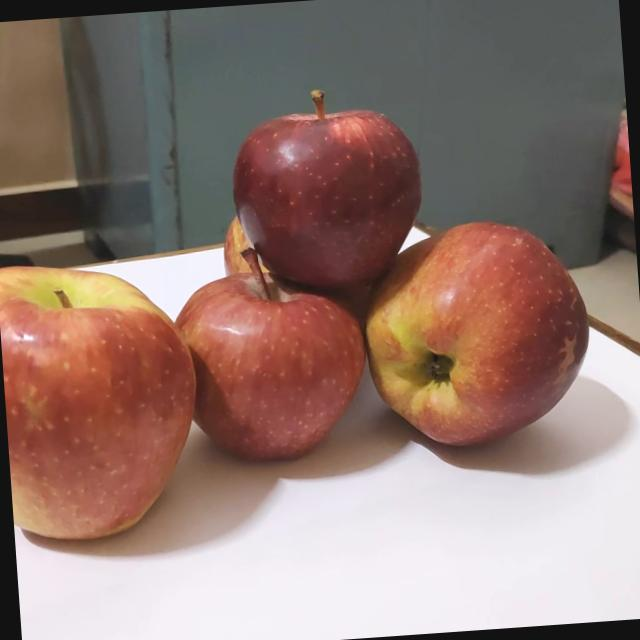apple: (347, 210, 600, 457), (0, 251, 203, 551), (219, 76, 436, 302), (168, 236, 370, 472), (217, 200, 282, 282)
